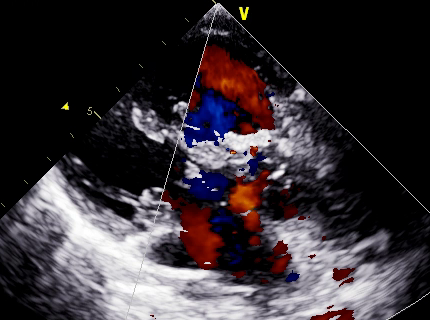AR: (216, 168, 301, 225)
